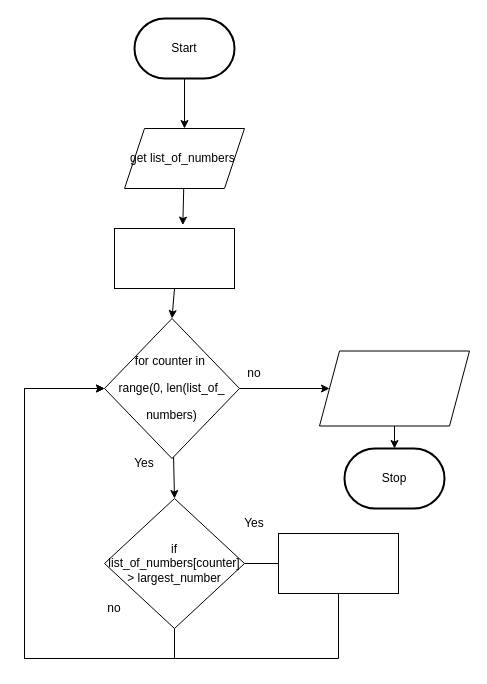
The diagram is 487 pixels wide and 684 high, and some of its shapes have lost their labels. Here are the shapes that lost their labels. From the top down, the centre of each, then its label:
At pixel 174 258: "largest_number = list_of_numbers[0]".
At pixel 394 388: "return largest number".
At pixel 338 563: "largest_number = list_of_numbers[counte]'".
